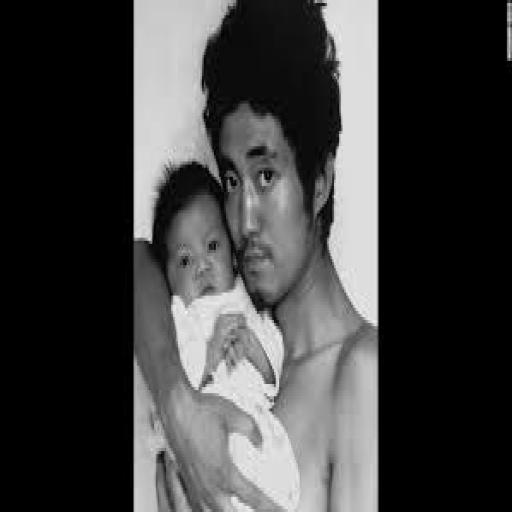hugging: (134, 0, 378, 509)
